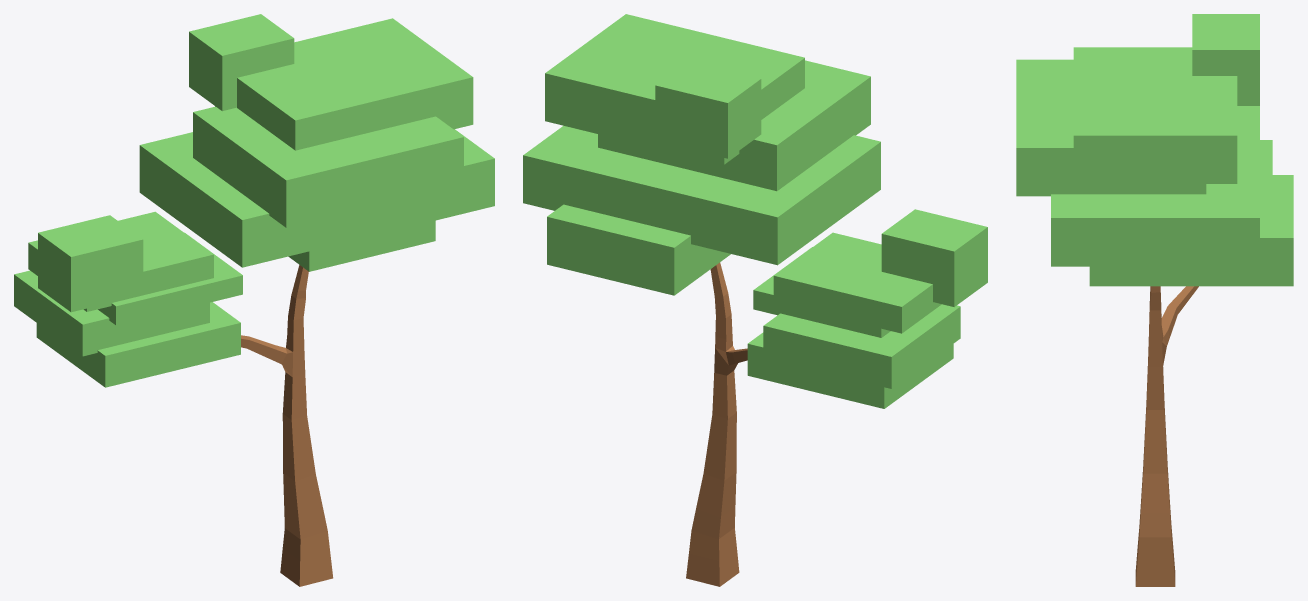
File: Tree.fbx
3 views of the same model, side by side, from view 1: azimuth 30°, elevation 25°; view 2: azimuth 150°, elevation 25°; view 3: azimuth 270°, elevation 25° (orthographic).
Visible parts, largest first — view 1: Cube; view 2: Cube; view 3: Cube.
Part boxes in pixels (x1,y1,x2,y2): Cube: (14,14,494,586); Cube: (523,14,987,586); Cube: (1016,14,1293,586).
Size of the model in its own units: 192 by 245 by 116.
